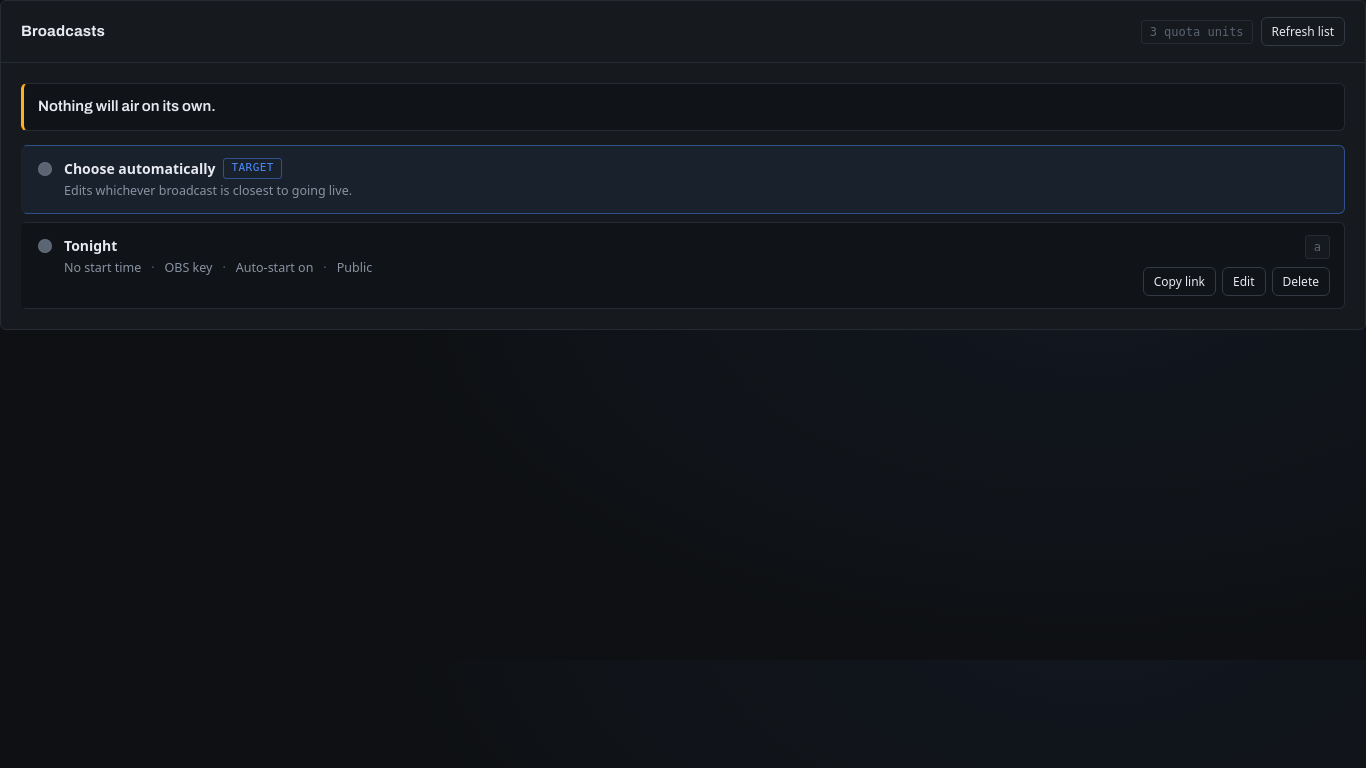
Test: BroadcastList, managing (issue 069) › says so when the clipboard refuses, rather than claiming the link was copied
What coordinates should you click on to do the following:
click the button "Copy link"
I would click on:
 (1179, 281)
Its box is [1143,266,1216,296].
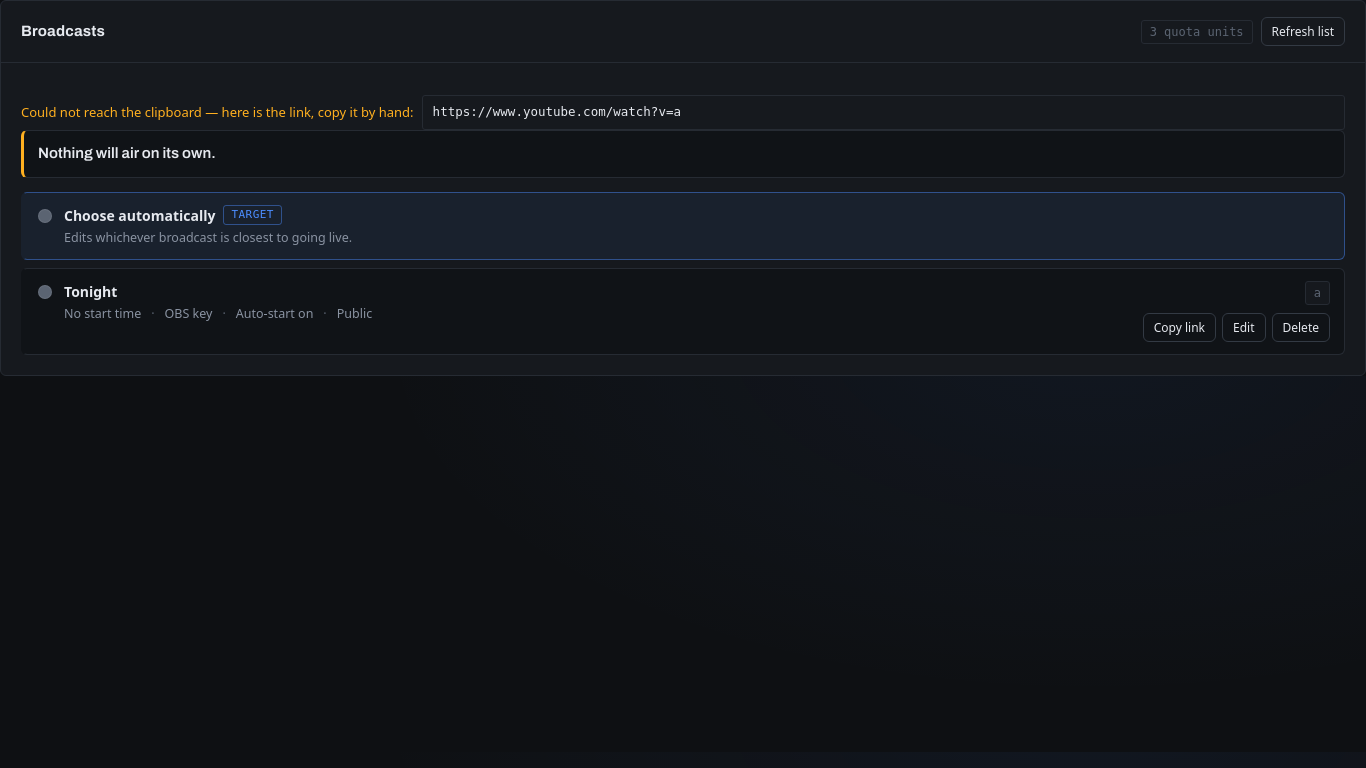
Check: the text "copy it by hand" is shown, box [21,103,414,121]
Check: the text "https://www.youtube.com/watch?v=a" is shown, box [422,95,1345,130]
